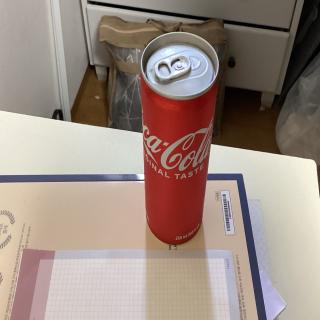cocacola: (138, 30, 214, 250)
